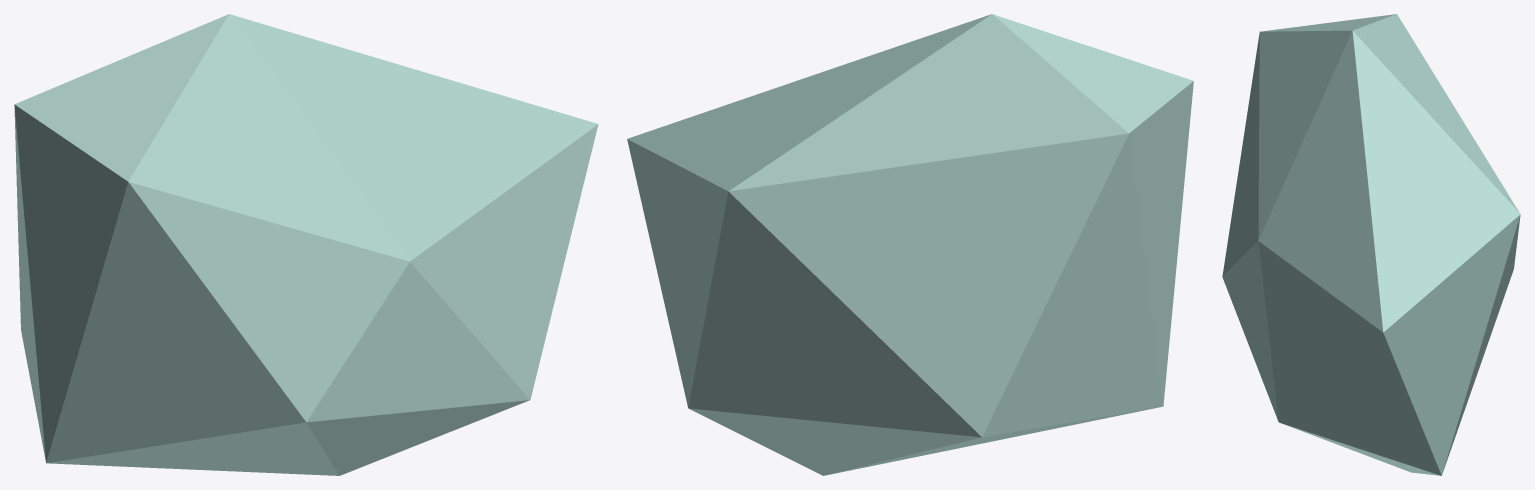
Rendered from medrock2.glb.
3 renders of one model, left to right at view 1: azimuth 30°, elevation 25°; view 2: azimuth 150°, elevation 25°; view 3: azimuth 270°, elevation 25°, orthographic. The views are drawn at different scales.
Visible parts, largest first — view 1: Stone1.005; view 2: Stone1.005; view 3: Stone1.005.
Boxes of the visible parts, x1,y1,x2,y2 form: Stone1.005: (14, 14, 598, 475); Stone1.005: (627, 14, 1193, 475); Stone1.005: (1222, 14, 1520, 475).
Bounding box in the file's own units: 1.48 × 1.29 × 0.9011.
